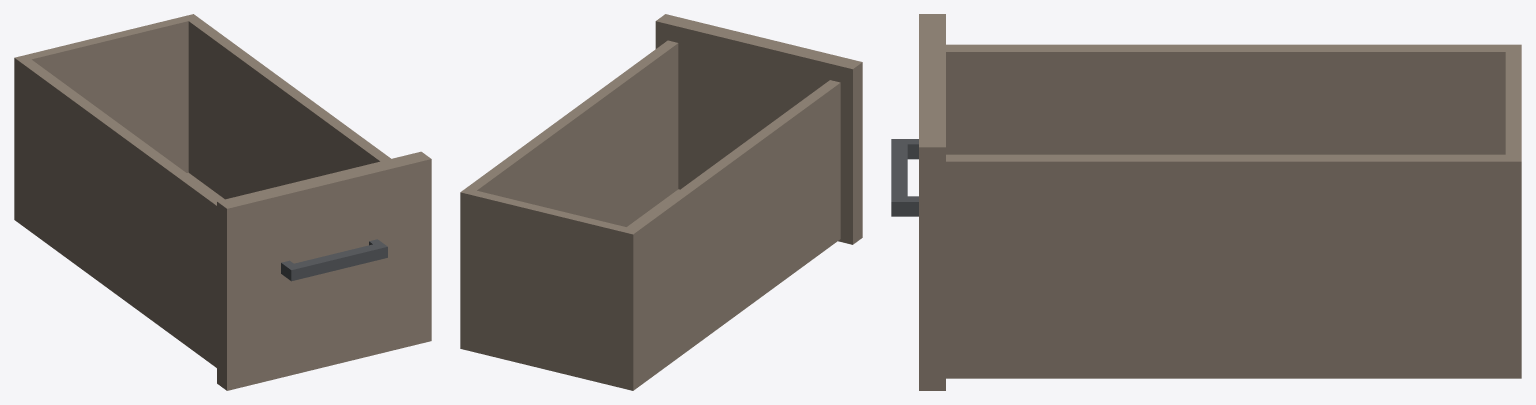
The model's file is Door1_C5_07.fbx.
The picture shows the model from 3 angles, left to right: view 1: azimuth 30°, elevation 25°; view 2: azimuth 150°, elevation 25°; view 3: azimuth 270°, elevation 25°; orthographic projection. The views are drawn at different scales.
Parts seen in each view (by area): view 1: Door1_C5_07; view 2: Door1_C5_07; view 3: Door1_C5_07.
Part boxes in pixels (x1,y1,x2,y2): Door1_C5_07: (14,14,431,390); Door1_C5_07: (460,14,862,390); Door1_C5_07: (891,14,1521,390).
Bounding box in the file's own units: 29 × 24.68 × 57.89.
